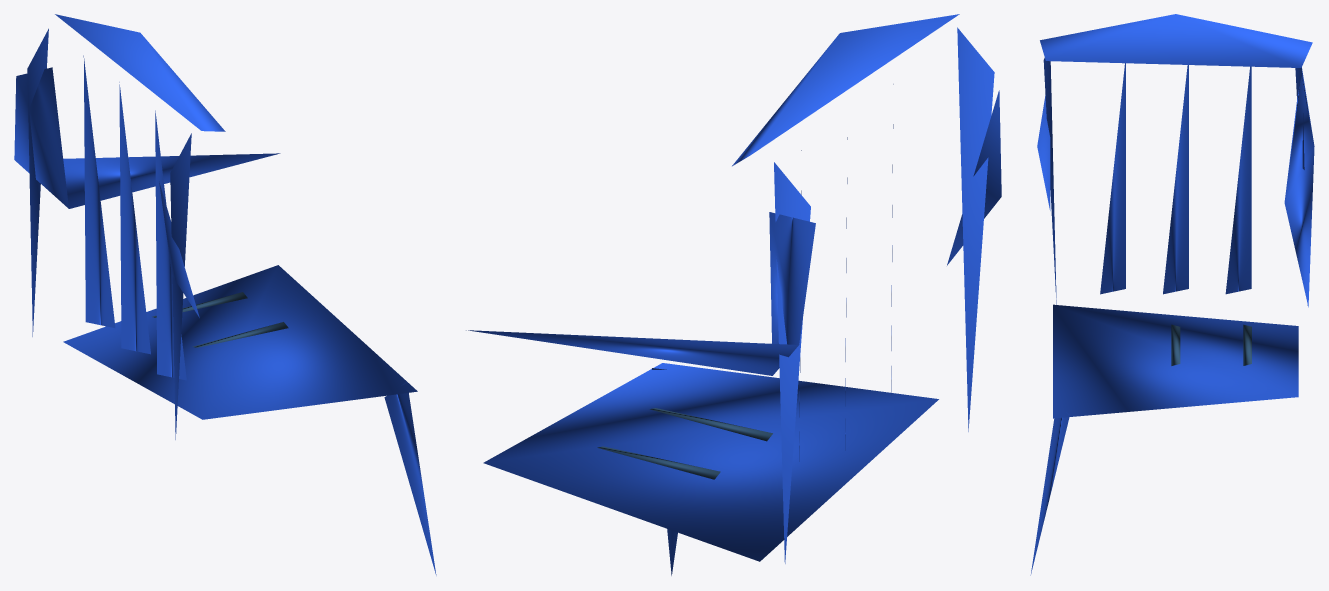
Rendered from prop.lawn-chair-b.lod2.glb.
3 renders of one model, left to right at view 1: azimuth 30°, elevation 25°; view 2: azimuth 150°, elevation 25°; view 3: azimuth 270°, elevation 25°, orthographic. The views are drawn at different scales.
Bounding box in the file's own units: 0.6088 × 1.16 × 0.6332.
